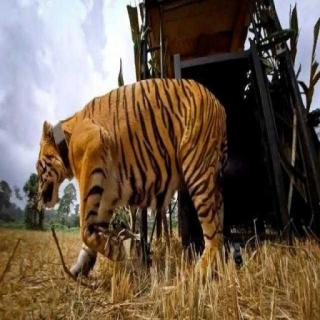Tiger: (22, 70, 266, 272)
